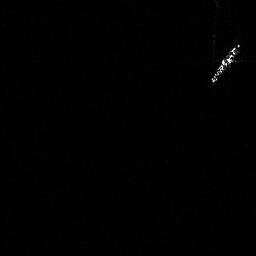ship: (206, 39, 243, 88)
